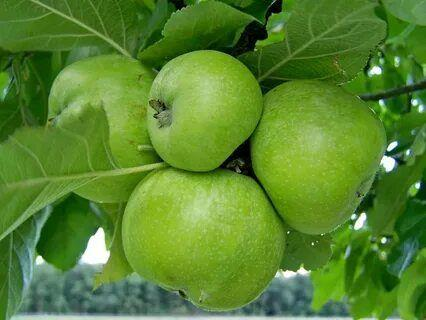Apple: (120, 170, 286, 312), (252, 80, 386, 237), (45, 56, 158, 204), (148, 54, 264, 172)
